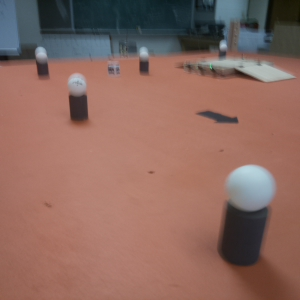obstacle: (214, 162, 274, 267), (66, 73, 90, 120), (33, 45, 51, 80), (139, 46, 150, 75), (217, 41, 228, 58)
side: (183, 61, 232, 80)
slope: (238, 61, 296, 84)
